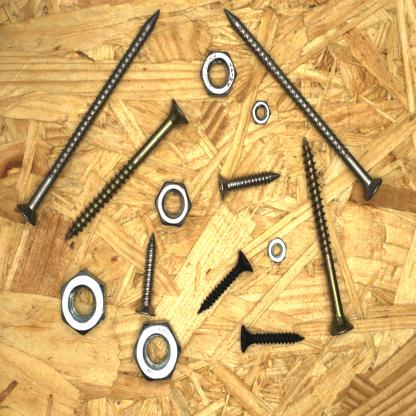screw: (12, 6, 162, 228), (221, 5, 385, 203), (62, 95, 191, 243), (301, 134, 357, 340), (194, 246, 257, 319), (215, 168, 282, 206), (131, 231, 158, 318), (238, 321, 305, 355)
